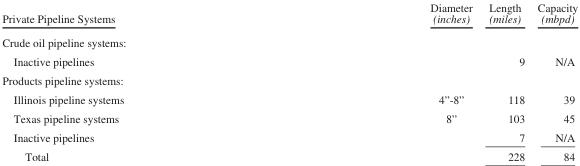table: (1, 0, 577, 162)
table column: (1, 0, 276, 162), (276, 0, 480, 162), (480, 0, 530, 162), (530, 0, 577, 162)
table column header: (1, 0, 577, 30)
table projected row header: (1, 30, 577, 52), (1, 70, 577, 89)
table row: (1, 0, 577, 30), (1, 30, 577, 52), (1, 70, 577, 89), (1, 89, 577, 108), (1, 108, 577, 127), (1, 127, 577, 146), (1, 52, 577, 70), (1, 146, 577, 162)
